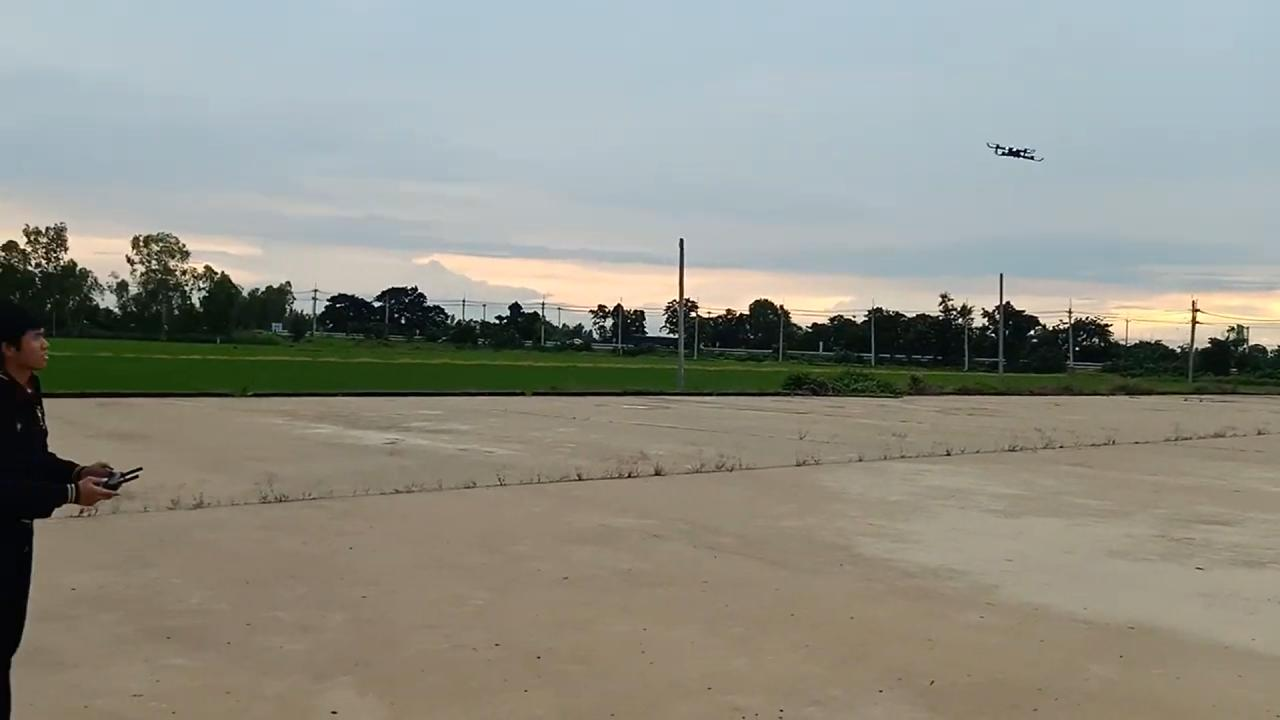Drone: (981, 132, 1051, 174)
